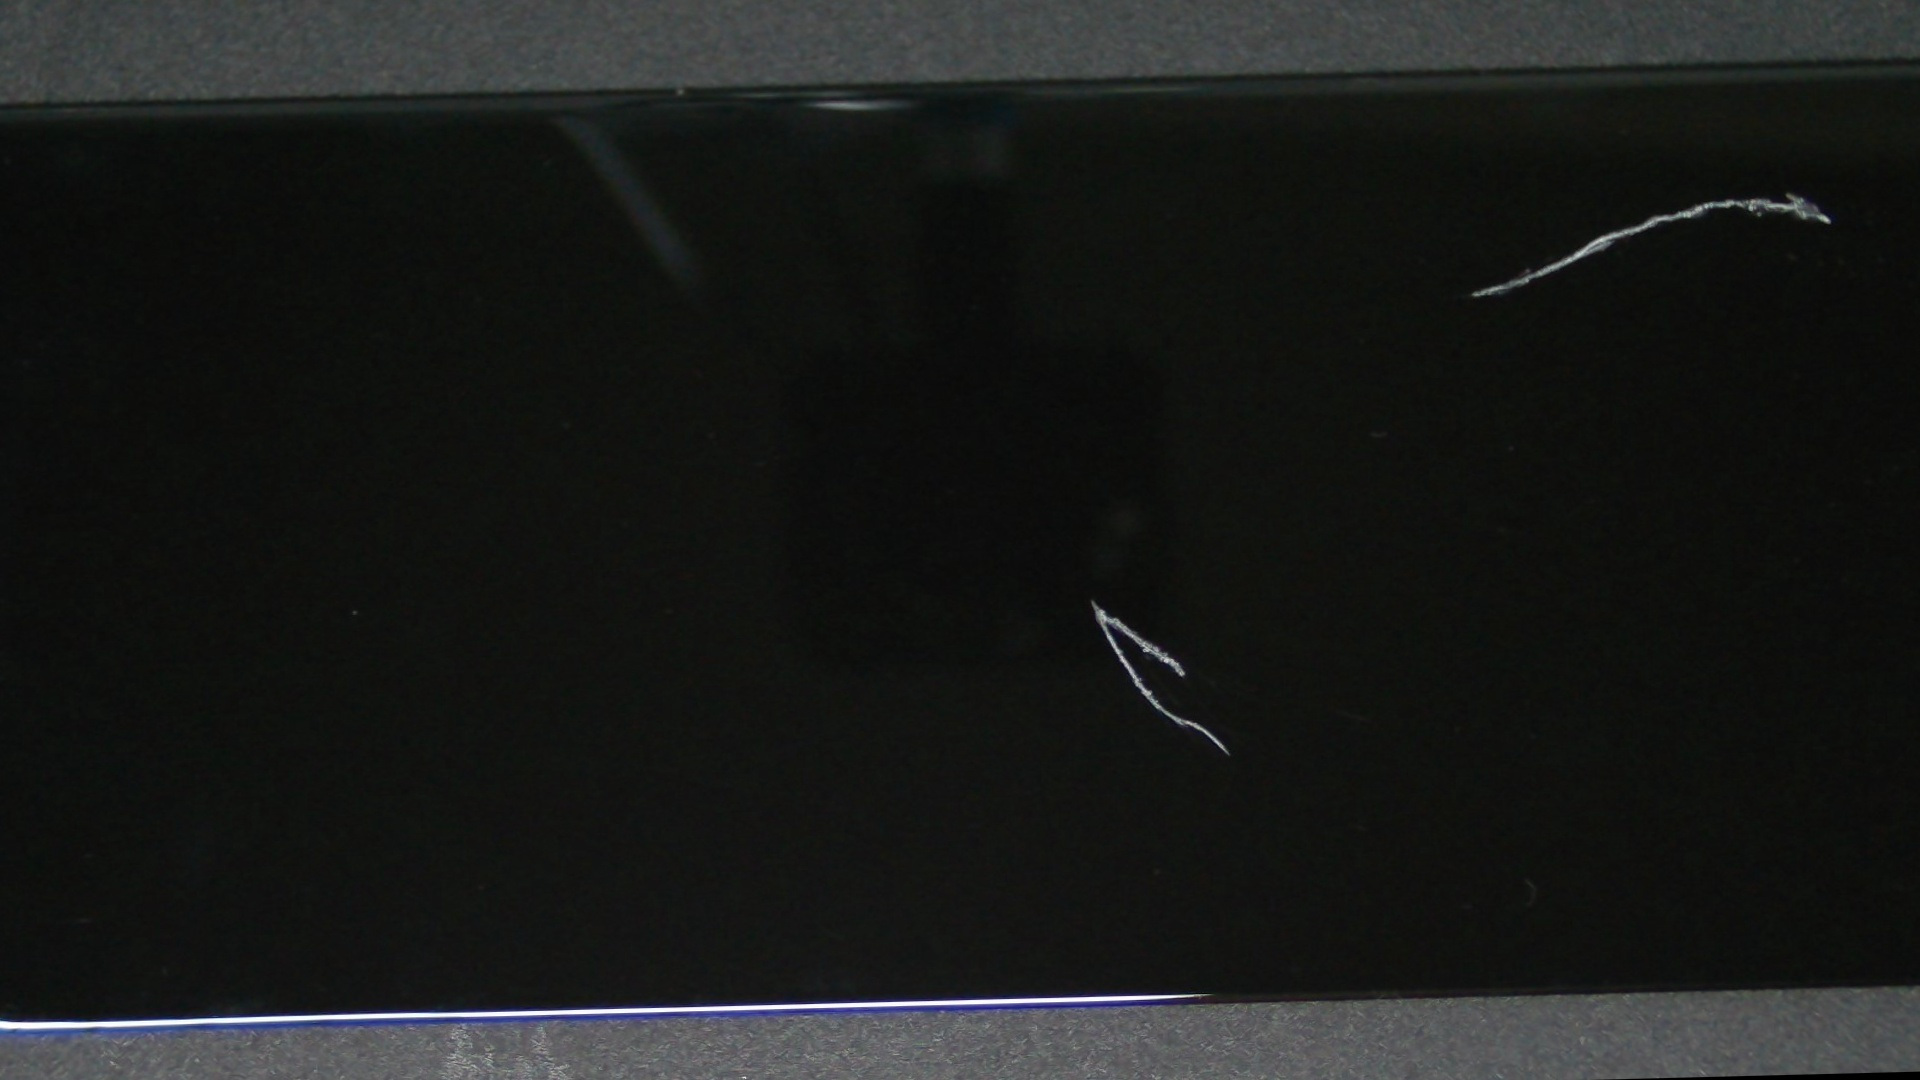oil: (471, 253, 1708, 944), (819, 50, 1920, 349)
